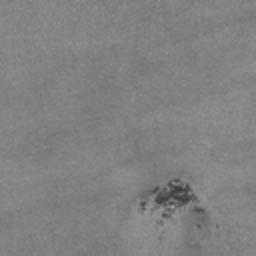Iron sheet ash: (146, 177, 202, 219), (193, 207, 207, 215), (140, 200, 147, 212)
